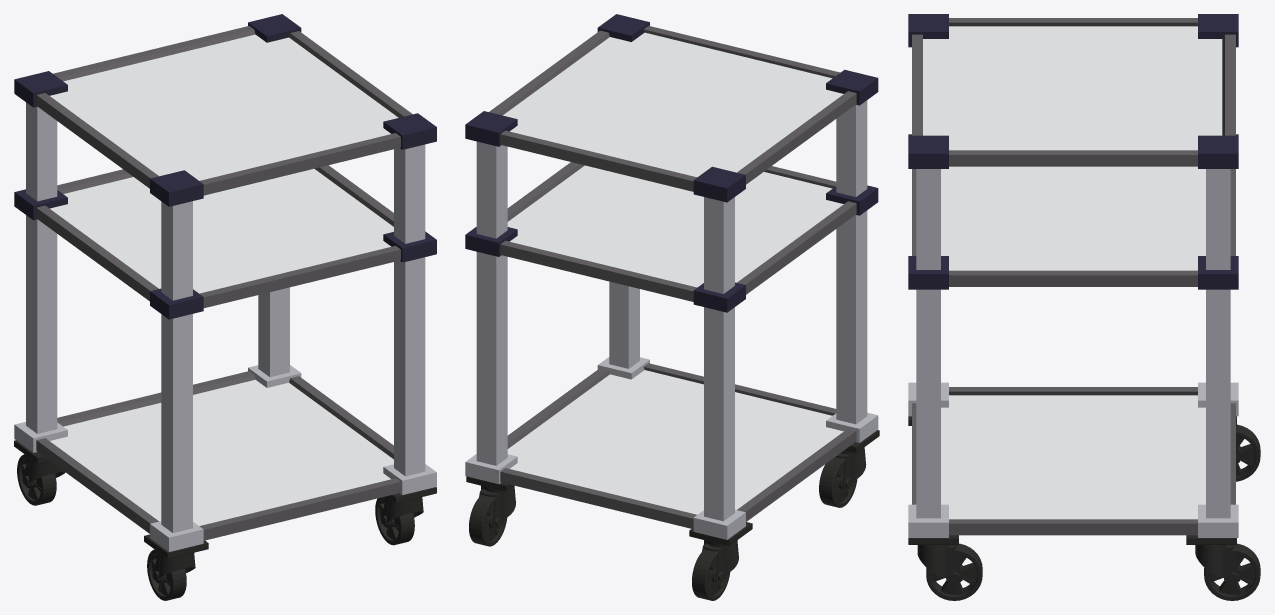
Rendered from chariot-de-soins-projet-doceo.fbx.
3 views of the same model, side by side, from view 1: azimuth 30°, elevation 25°; view 2: azimuth 150°, elevation 25°; view 3: azimuth 270°, elevation 25° (orthographic). The views are drawn at different scales.
Visible parts, largest first — view 1: Charriot-De-Soins-Type-1; view 2: Charriot-De-Soins-Type-1; view 3: Charriot-De-Soins-Type-1.
Boxes of the visible parts, left/top/right/bottom form: Charriot-De-Soins-Type-1: left=14, top=14, right=436, bottom=600; Charriot-De-Soins-Type-1: left=465, top=14, right=879, bottom=600; Charriot-De-Soins-Type-1: left=908, top=14, right=1260, bottom=600.
Bounding box in the file's own units: 61.52 × 92.91 × 65.23.
